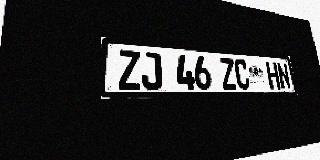4: (175, 54, 195, 90)
6: (193, 56, 212, 89)
C: (233, 59, 251, 89)
H: (265, 61, 281, 89)
J: (140, 51, 163, 90)
N: (276, 62, 291, 89)
Z: (118, 49, 141, 90), (219, 58, 237, 89)
